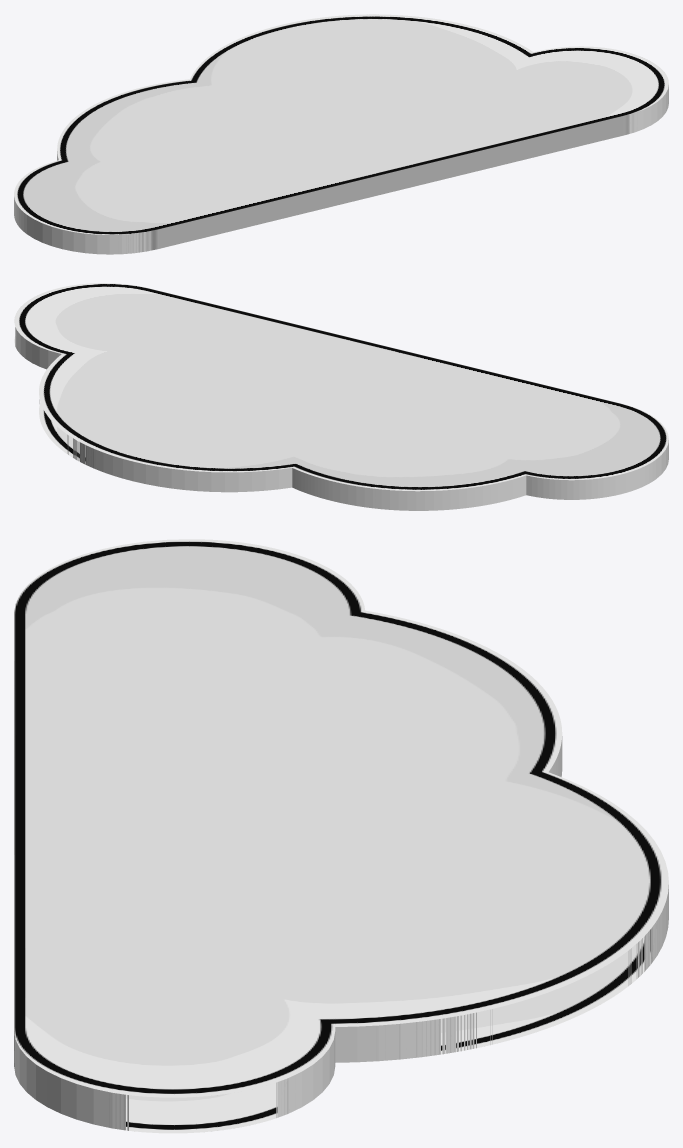
File: wolk3.dae
3 views of the same model, one above another, from view 1: azimuth 30°, elevation 25°; view 2: azimuth 150°, elevation 25°; view 3: azimuth 270°, elevation 25° (orthographic). The views are drawn at different scales.
Visible parts, largest first — view 1: Curve_001; view 2: Curve_001; view 3: Curve_001.
Part boxes in pixels (x1,y1,x2,y2): Curve_001: [14, 14, 668, 254]; Curve_001: [14, 283, 668, 510]; Curve_001: [14, 539, 668, 1133].
Size of the model in its own units: 0.3356 by 0.1662 by 0.01.
Materials: 1 (1 with a texture image).
